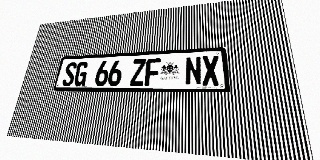6: (94, 60, 110, 86), (107, 60, 123, 86)
F: (144, 58, 161, 86)
G: (73, 61, 89, 86)
N: (185, 56, 202, 86)
S: (61, 62, 78, 86)
X: (202, 55, 220, 85)
Z: (130, 59, 146, 86)
